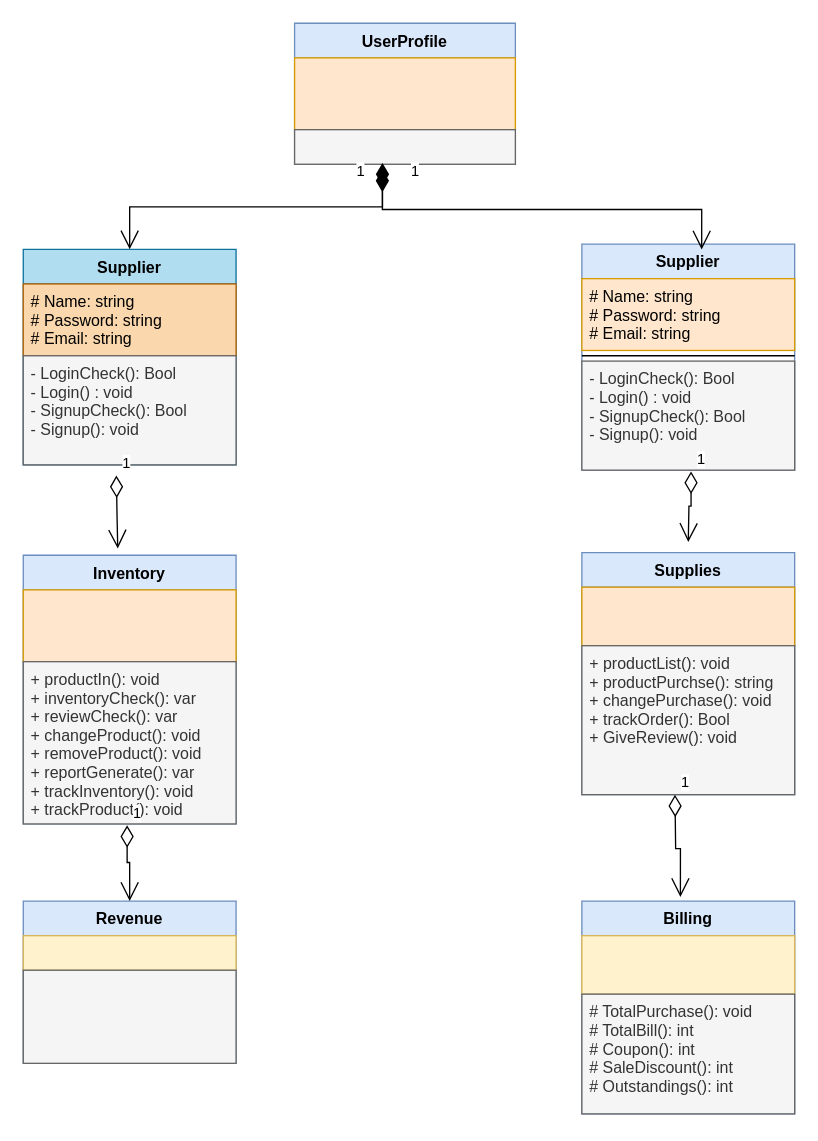
Image size: 818x1141. Some labels were removed from this diagram. The centre of each missing label's shape, as x and y in pixels:
"# purpose: string # newAddition: string" goes at [129,625].
"# purpose: string # purchase: string" goes at [688,616].
"# userIn(): void" goes at [404,146].
"+ bill: int" goes at [129,952].
"+ bill: int + purchase: var" goes at [688,964].
"+ CalSale(): int # CalRevenue(): int # Subsidies(): int # Purchases(): int" goes at [129,1016].
"+ userType: String + loginSignup: String" goes at [404,93].
